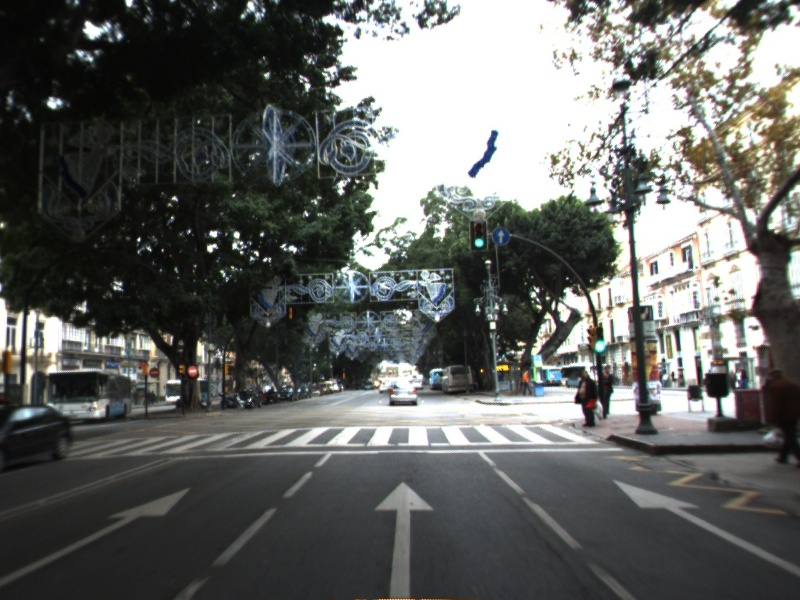STRAIGHT: (1, 484, 195, 586), (608, 475, 800, 575), (370, 477, 438, 600)
